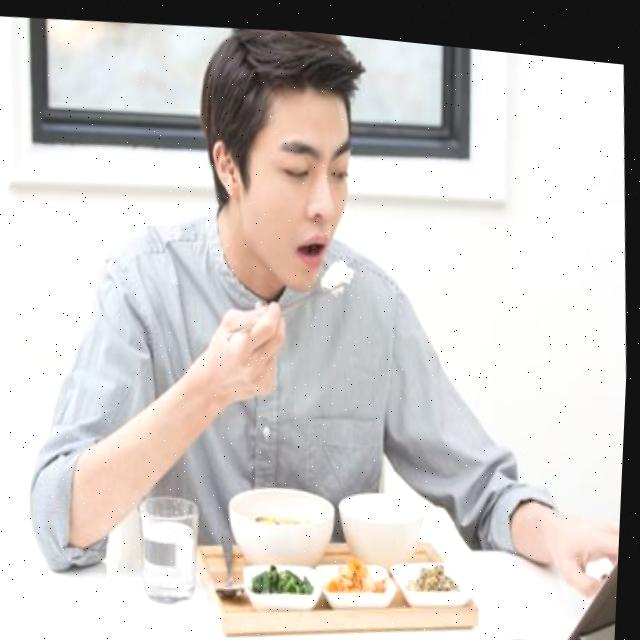eating-person: (0, 2, 640, 640)
